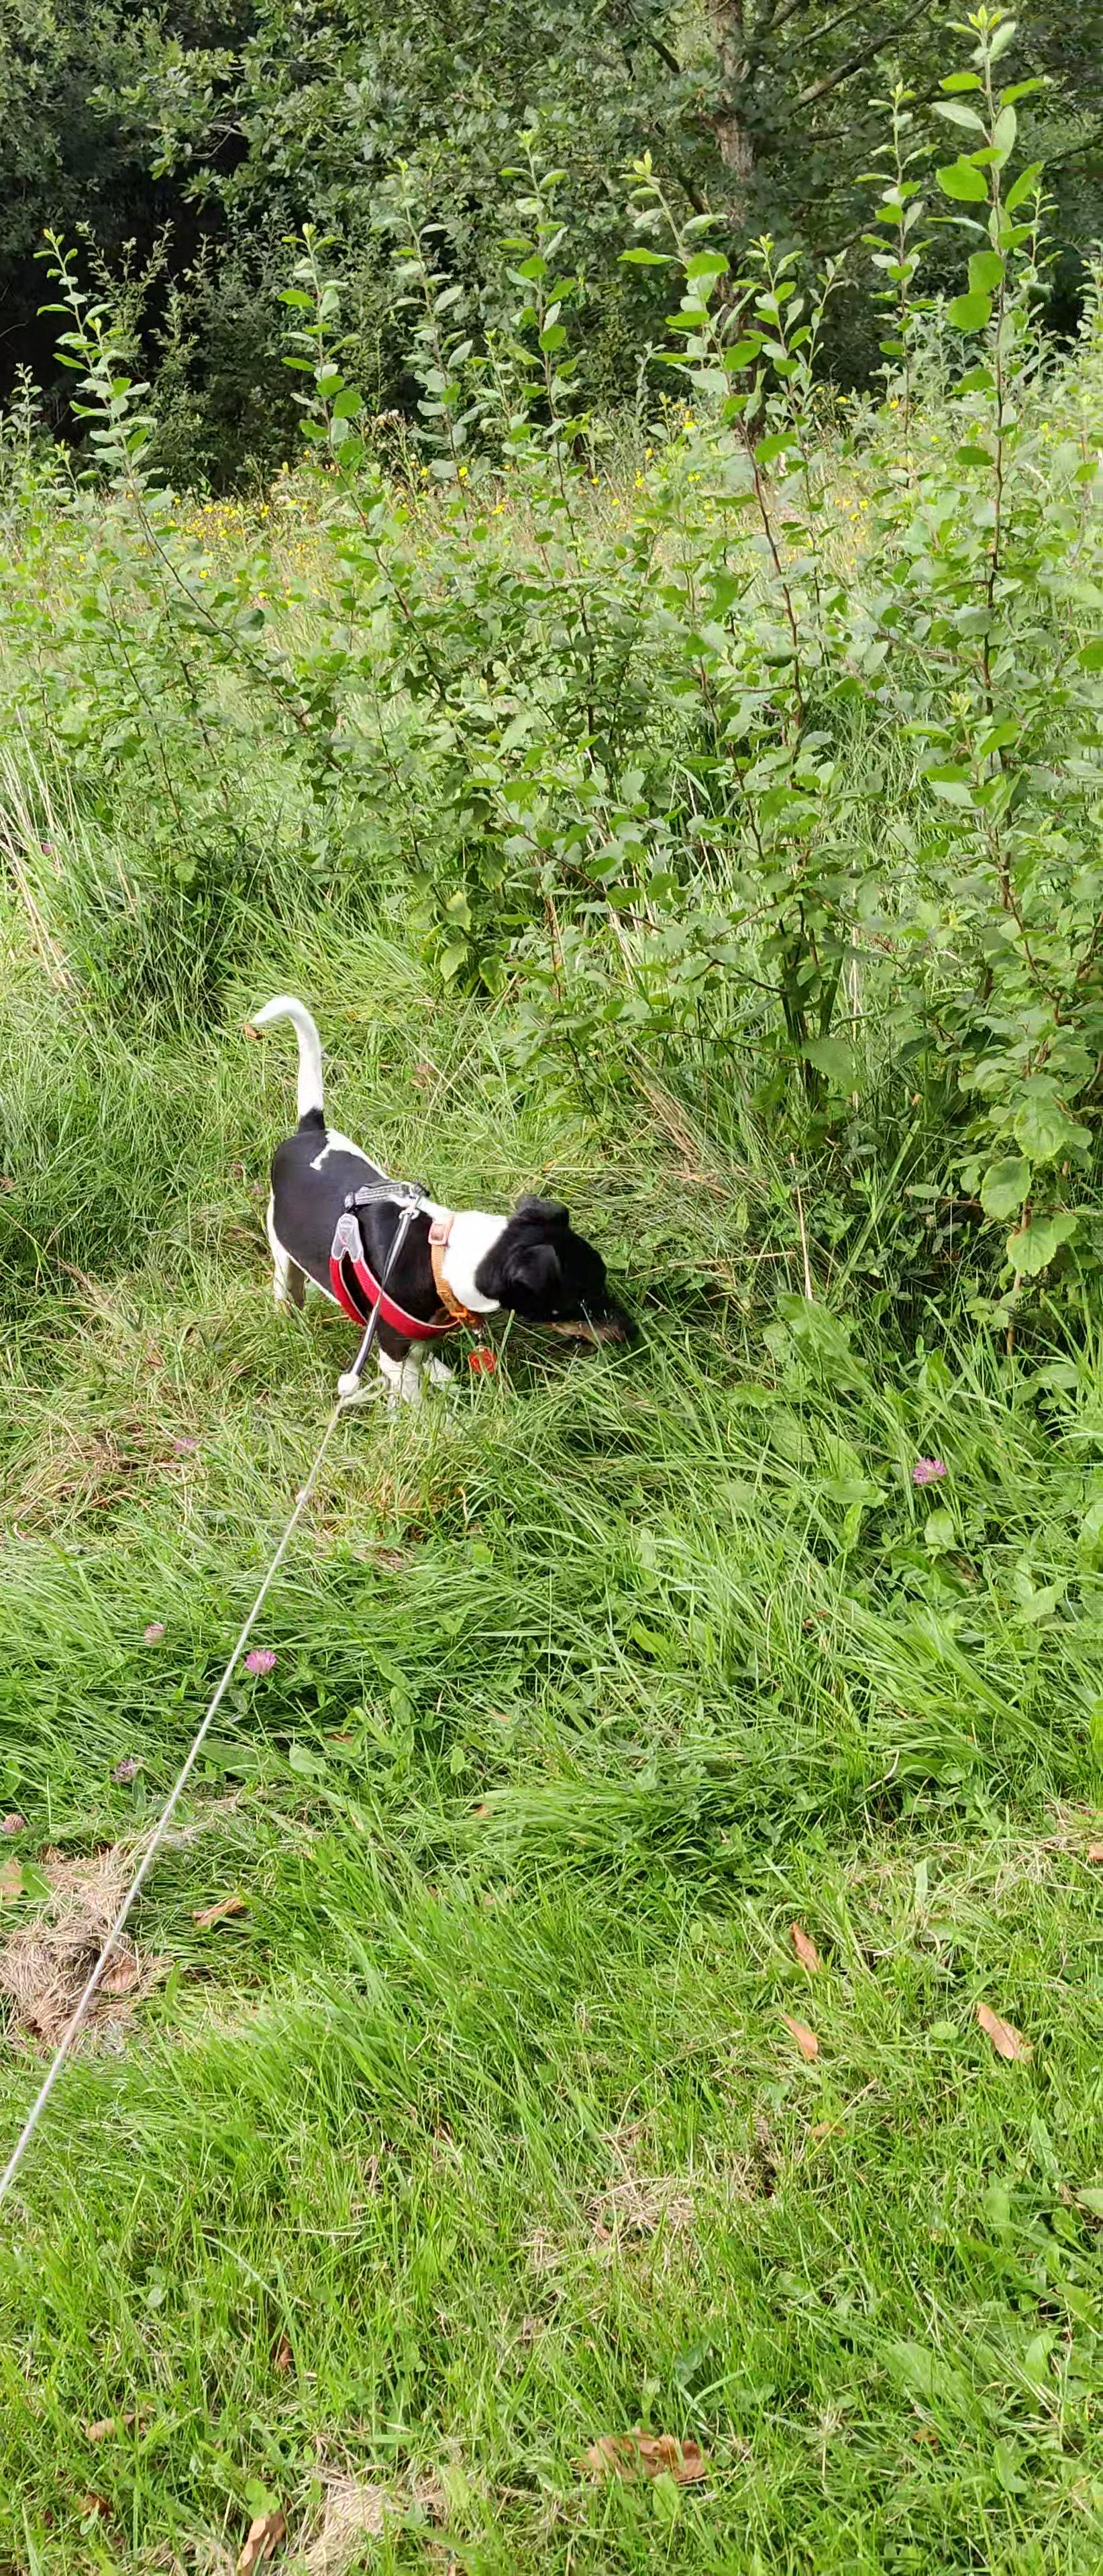Dog: (242, 986, 649, 1433)
